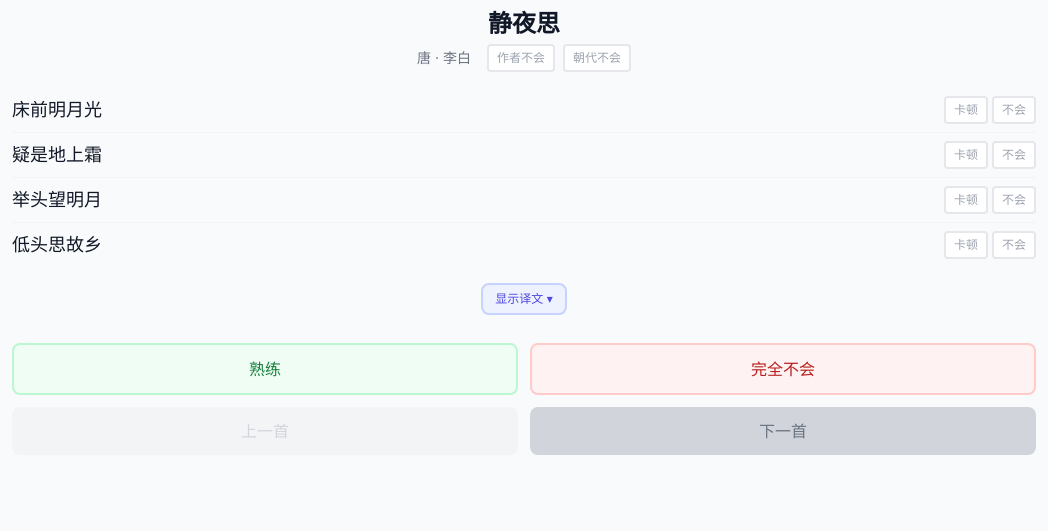
RecitationCard › Yiwen toggle › shows translation when yiwen button is clicked
This screenshot has width=1048, height=531.
Click the button "显示译文 ▾". click: (524, 299)
box: [481,283,567,315]
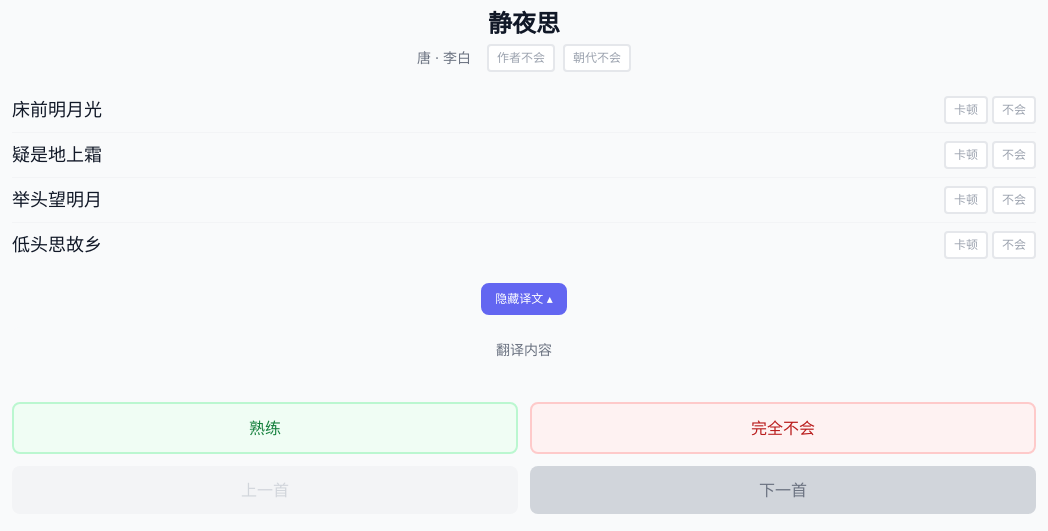
Check: the text "翻译内容" is shown, box [496,341,552,358]
